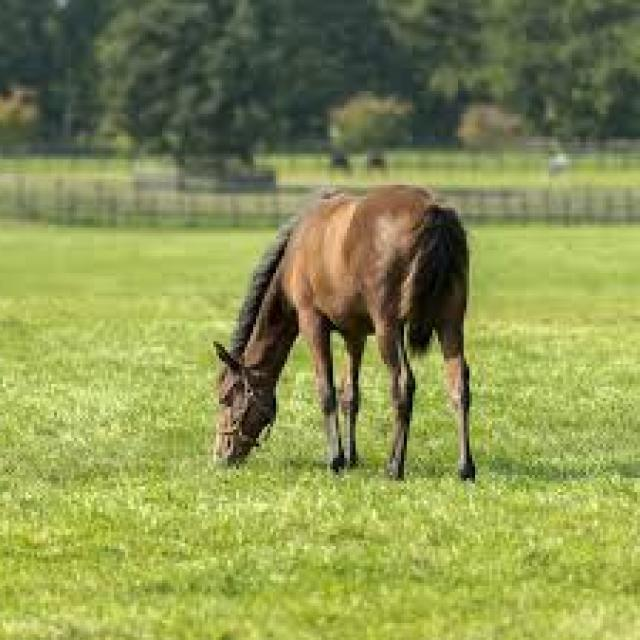horse: (202, 166, 478, 524)
